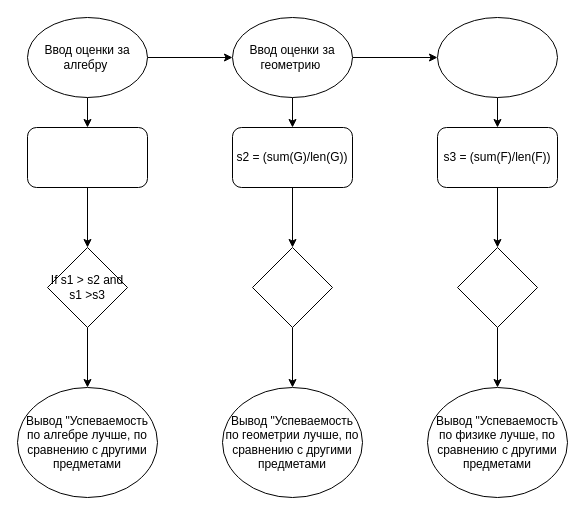
Image size: 585x515. Some labels were removed from this diagram. The shapes that lost their labels are listed below. From the top down, each one's box as (x1, y1, x2, y2) in pixels, then its label:
(436, 16, 558, 98): Ввод оценки за физика
(26, 126, 148, 188): s1 = (sum(A)/len(A))
(252, 246, 332, 328): If s2 > s1 and s2 >s3
(456, 246, 538, 328): If s3 > s2 and s3 >s1
